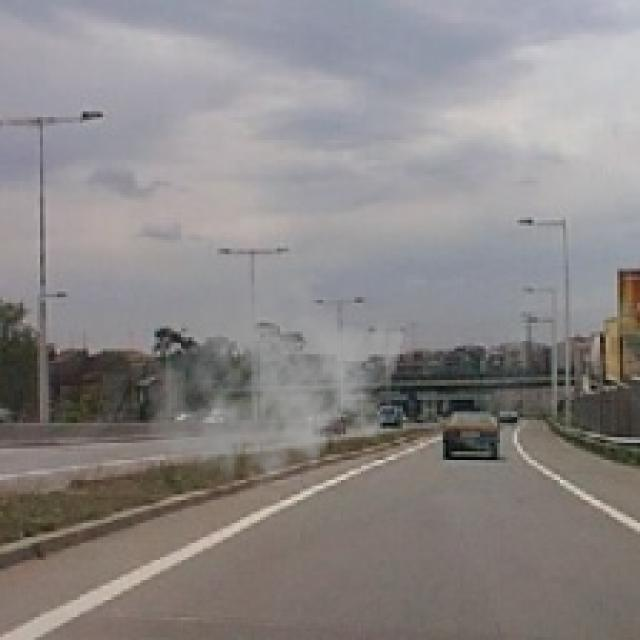smoke: (143, 257, 406, 506)
